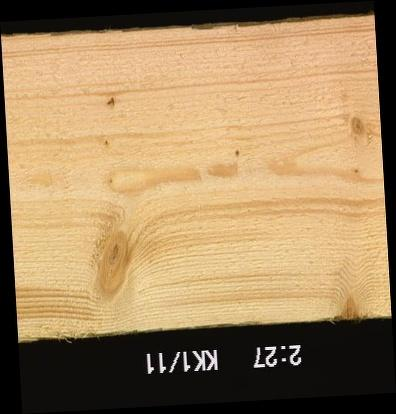small_knot: (98, 92, 123, 113), (99, 172, 123, 193), (99, 130, 114, 151), (347, 165, 363, 180), (227, 146, 241, 160)
sound_knot: (342, 112, 371, 146)
